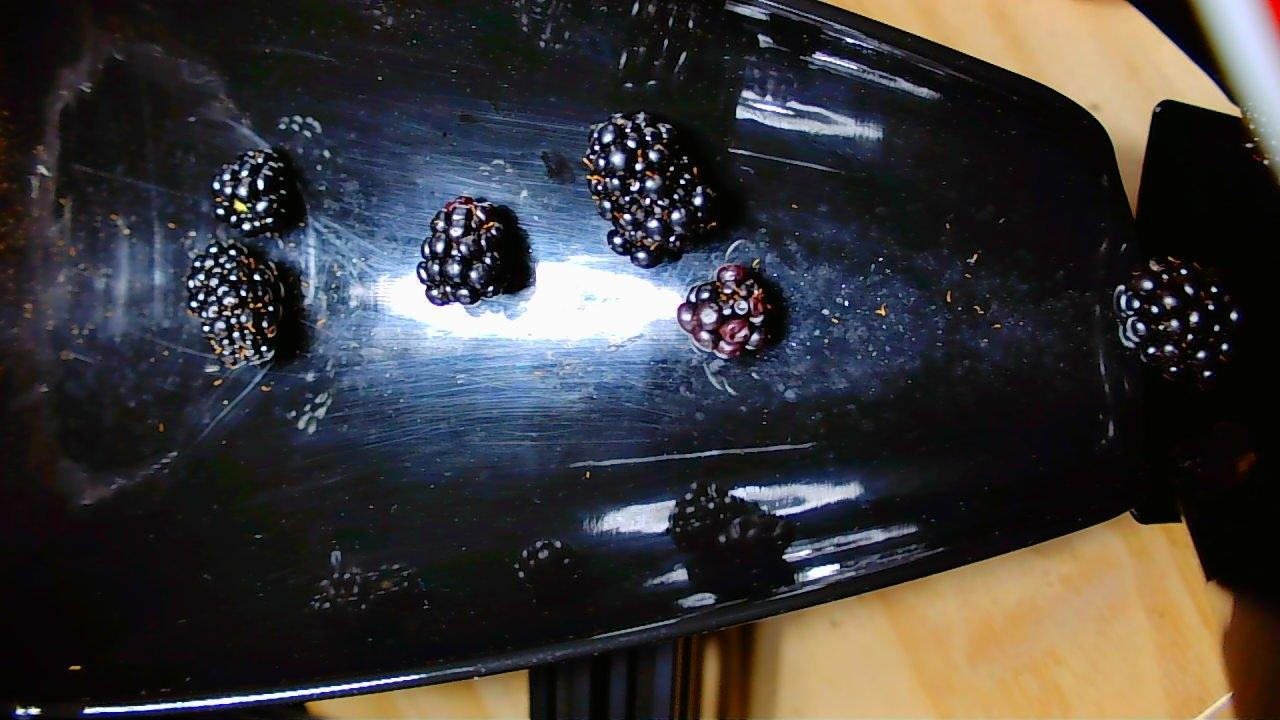berry: (584, 113, 713, 263), (1116, 252, 1238, 390), (184, 245, 284, 371), (420, 198, 524, 303), (679, 257, 780, 361), (206, 148, 300, 238)
